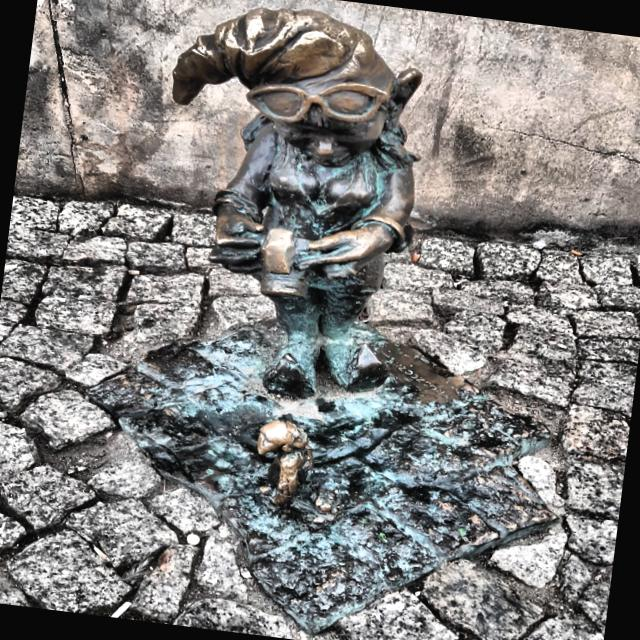Troszka i Adoratorek: (88, 9, 554, 636)
